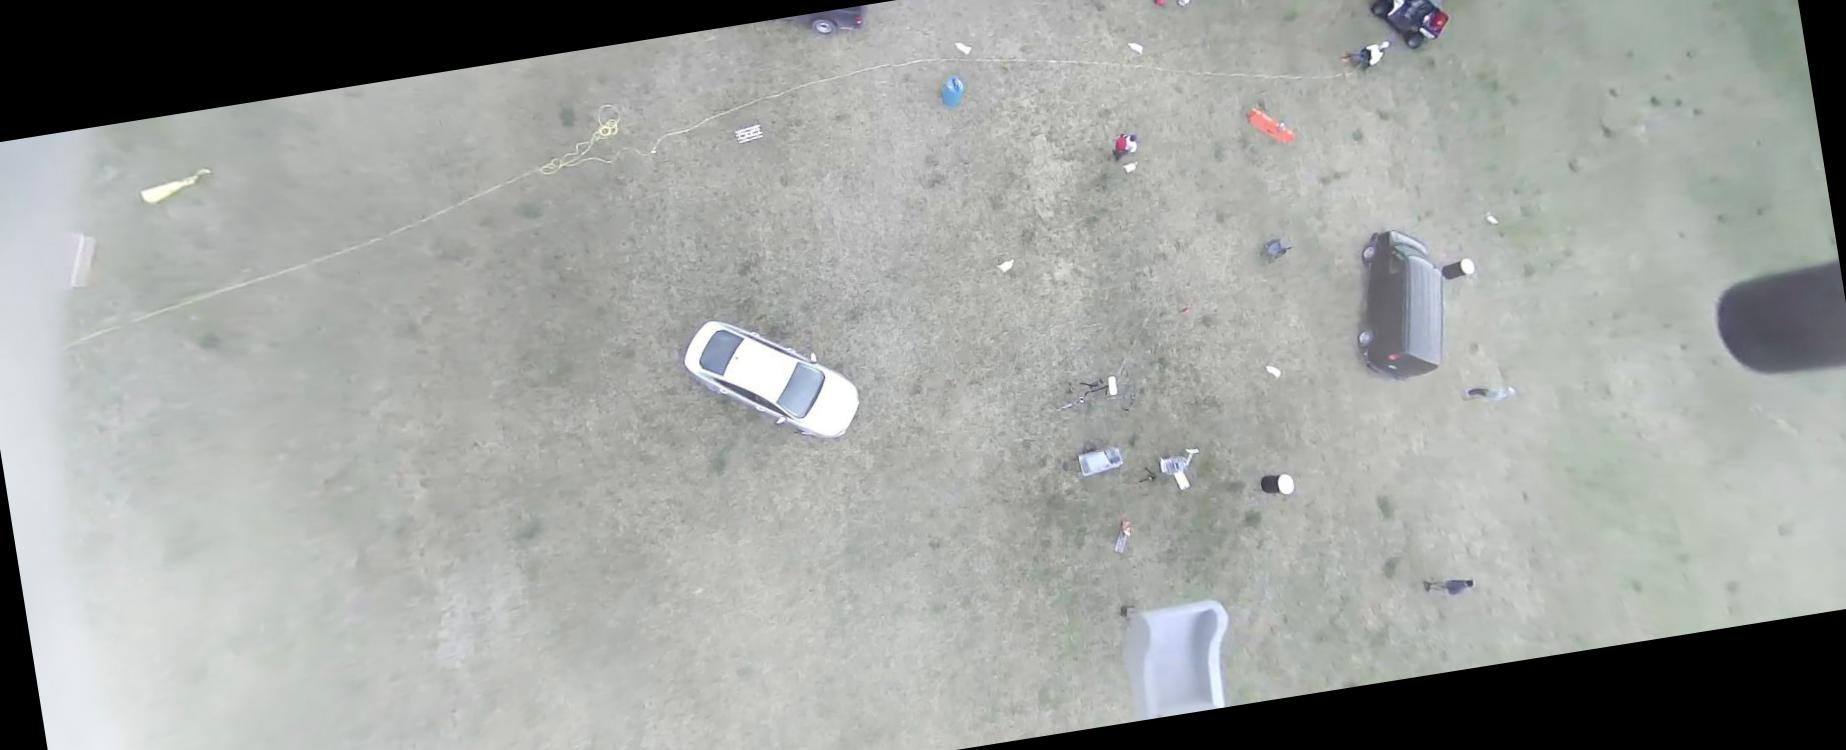vehicle: (679, 298, 866, 462), (1337, 224, 1455, 389), (1367, 0, 1457, 55), (783, 5, 871, 42)
